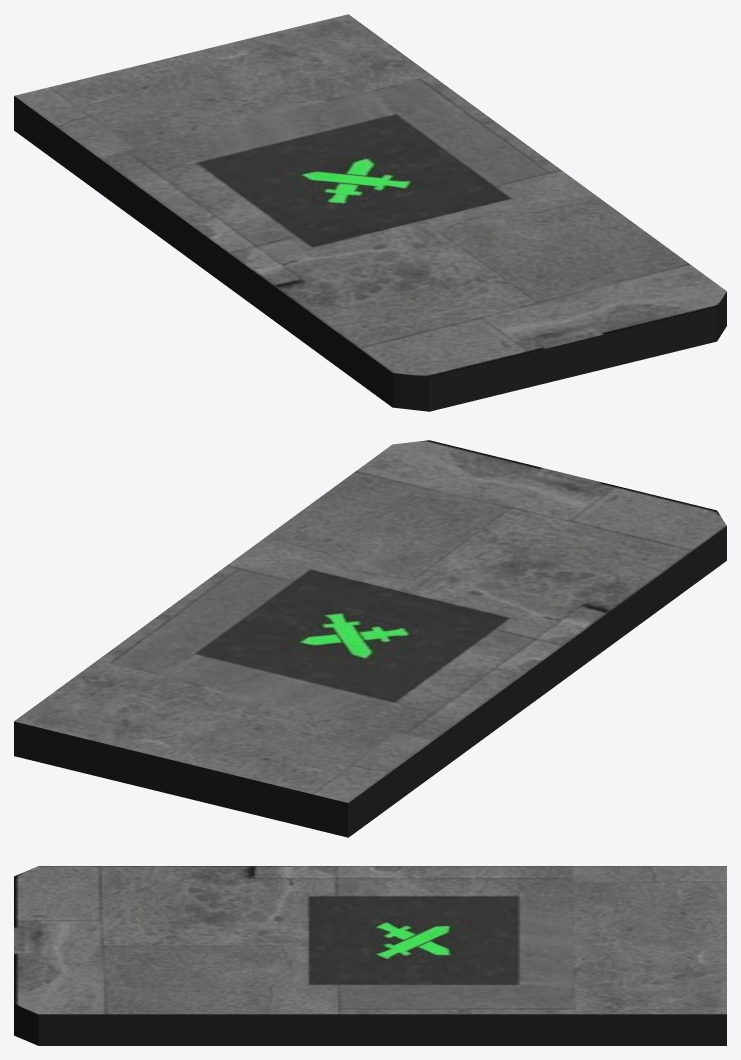
Rendered from blue_highland_wood.dae.
3 renders of one model, top to bottom at view 1: azimuth 30°, elevation 25°; view 2: azimuth 150°, elevation 25°; view 3: azimuth 270°, elevation 25°, orthographic. The views are drawn at different scales.
Visible parts, largest first — view 1: object; view 2: object; view 3: object.
Boxes of the visible parts, x1,y1,x2,y2 form: object: [14, 14, 726, 411]; object: [14, 440, 726, 837]; object: [14, 866, 726, 1045].
Bounding box in the file's own units: 2 × 4.06 × 0.198.
2 materials, 1 textured.
